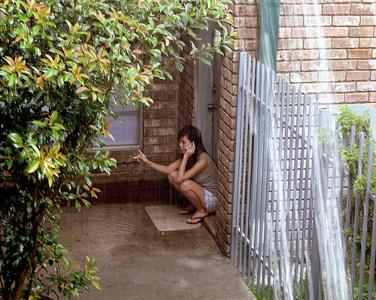person: (132, 128, 222, 222)
